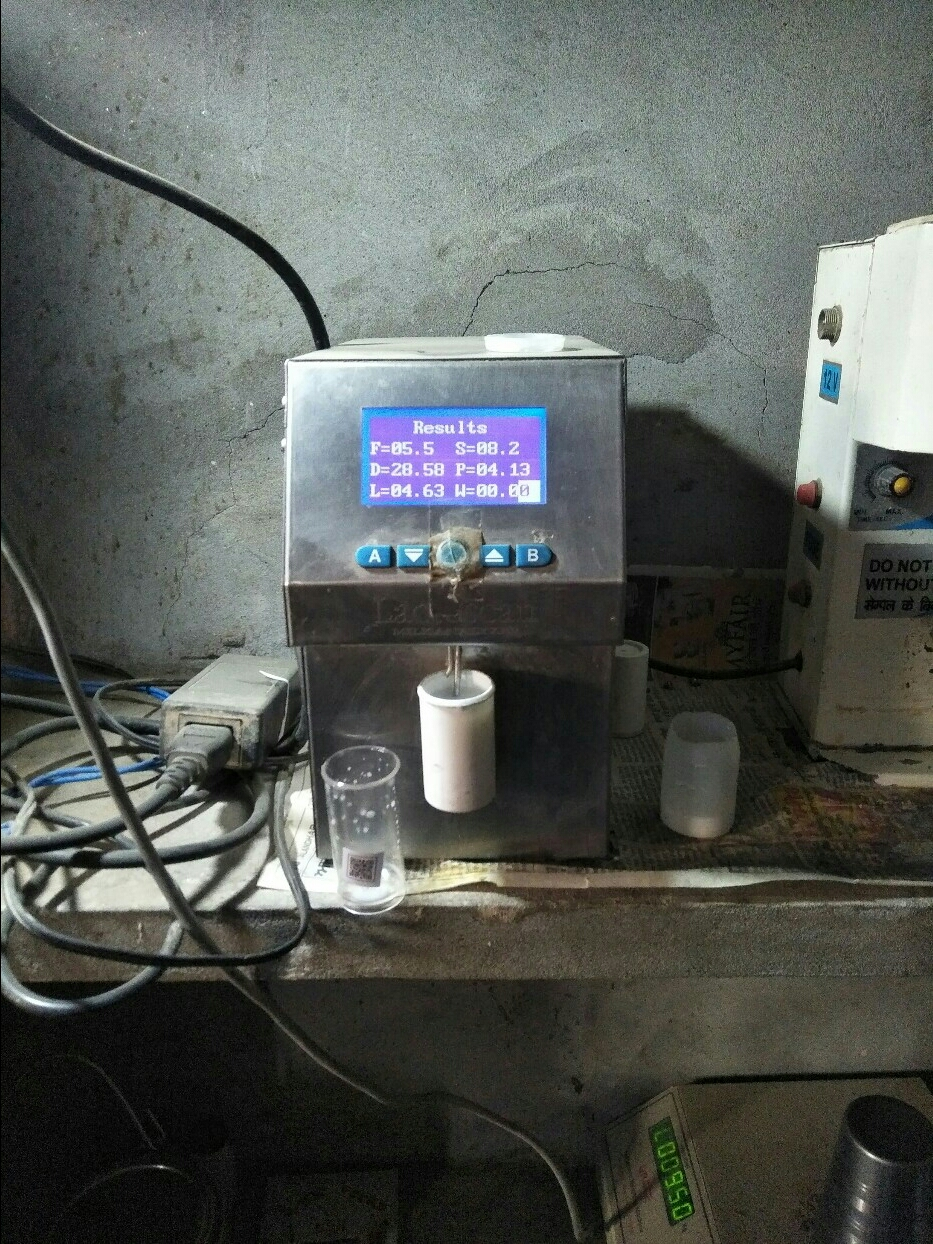lcd: (358, 403, 550, 508)
qr: (339, 850, 384, 888)
